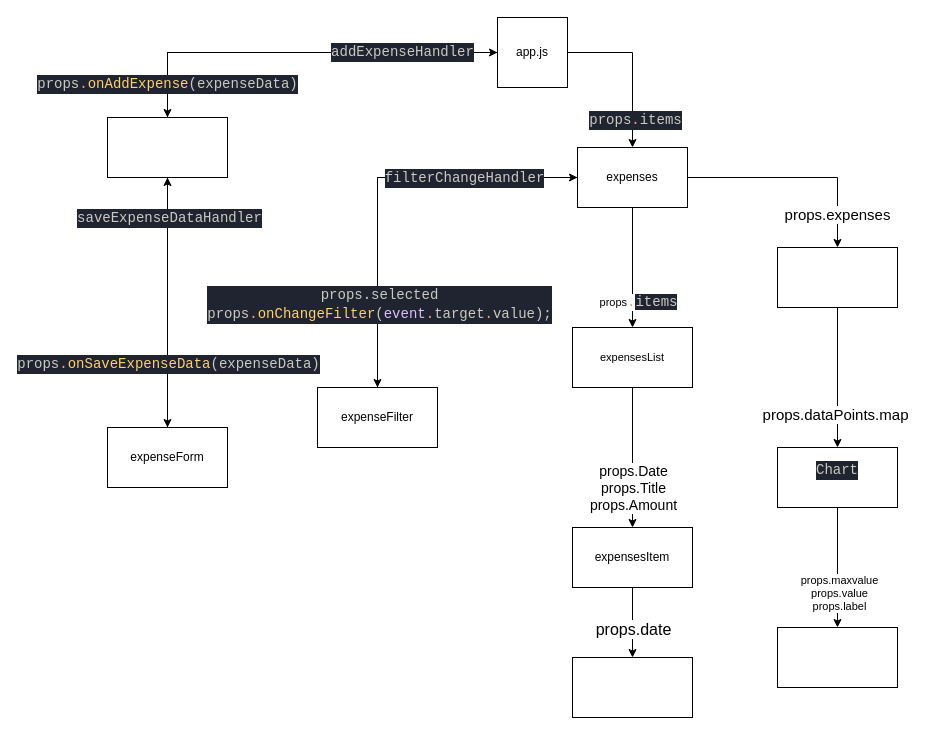
Some shapes in this 925 by 735 pixel diagram are drawn without their labels. The centre of each missing label's shape, as x and y in pixels:
"ChartBar" goes at (837,657).
"expenseDate" goes at (632,687).
"ExpensesChart" goes at (837,277).
"newExpense" goes at (167,147).
